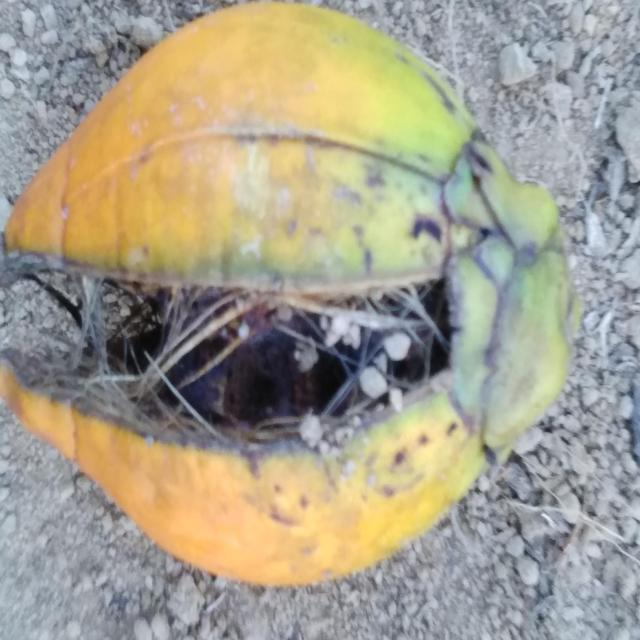damaged: (0, 2, 579, 586)
